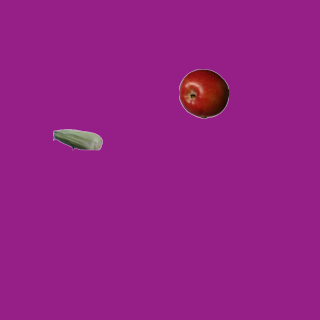Apple Braeburn: (178, 68, 228, 118)
Corn Husk: (52, 114, 102, 164)
